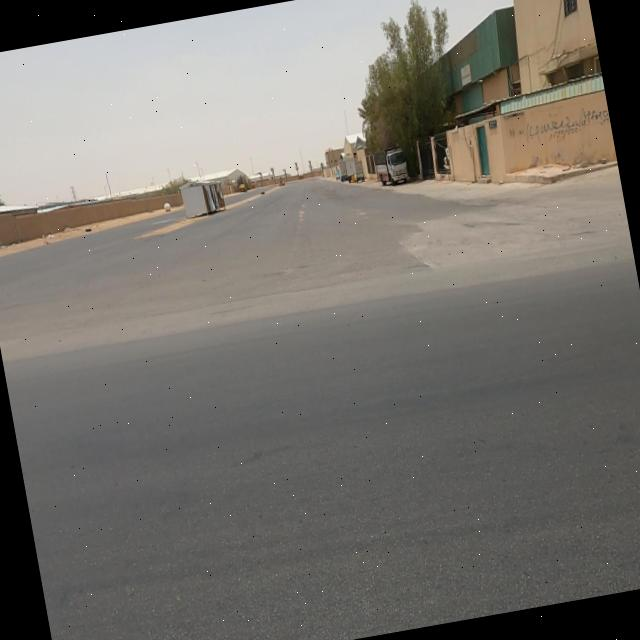Graffiti: (522, 102, 611, 148)
